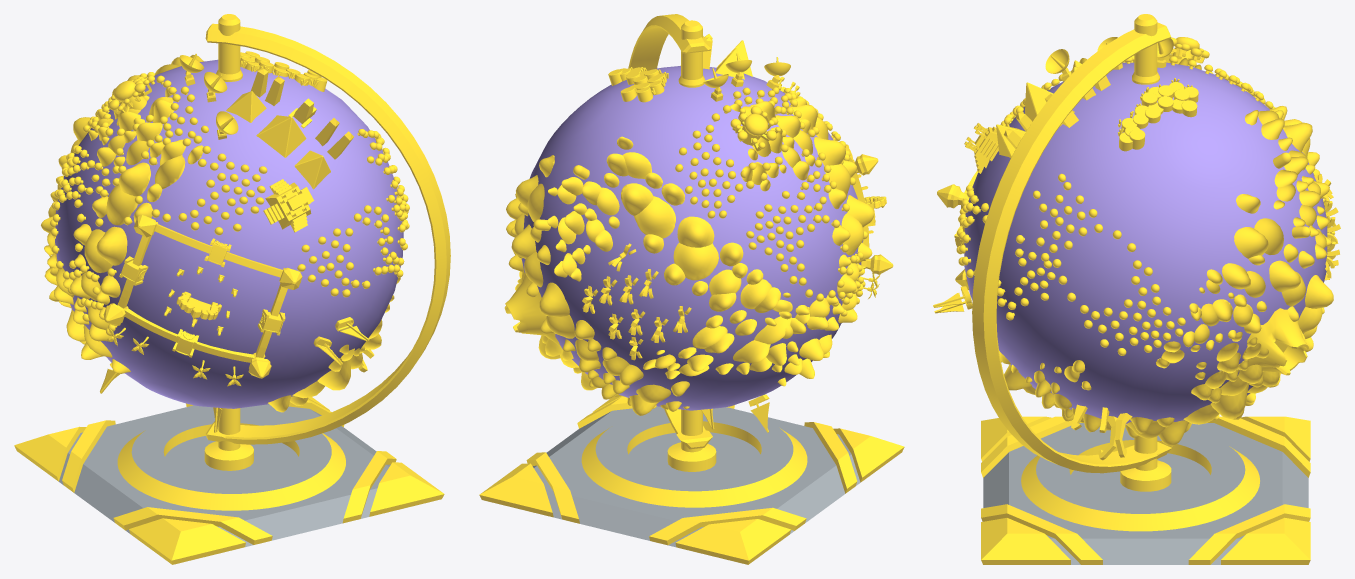
File: Globe1.fbx
The picture shows the model from 3 angles, left to right: view 1: azimuth 30°, elevation 25°; view 2: azimuth 150°, elevation 25°; view 3: azimuth 270°, elevation 25°; orthographic projection. The views are drawn at different scales.
Visible parts, largest first — view 1: globe_1, deets, Globe1, arc_arm, stand, spinning_shaft; view 2: deets, globe_1, Globe1, stand, spinning_shaft, arc_arm; view 3: globe_1, deets, Globe1, arc_arm, stand, spinning_shaft.
Part boxes in pixels (<box>): globe_1: <box>55,59,403,408</box>; deets: <box>41,51,409,432</box>; Globe1: <box>14,397,444,564</box>; arc_arm: <box>205,23,450,444</box>; stand: <box>117,409,345,510</box>; spinning_shaft: <box>204,14,253,470</box>; deets: <box>504,34,893,432</box>; globe_1: <box>521,66,863,410</box>; Globe1: <box>479,395,904,564</box>; stand: <box>581,408,807,507</box>; spinning_shaft: <box>667,20,716,471</box>; arc_arm: <box>628,14,712,449</box>; globe_1: <box>964,62,1327,425</box>; deets: <box>933,37,1340,460</box>; Globe1: <box>981,416,1310,564</box>; arc_arm: <box>972,22,1171,473</box>; stand: <box>1021,427,1259,531</box>; spinning_shaft: <box>1120,14,1171,491</box>.
Bounding box in the file's own units: 0.8892 × 1.21 × 0.9367.
